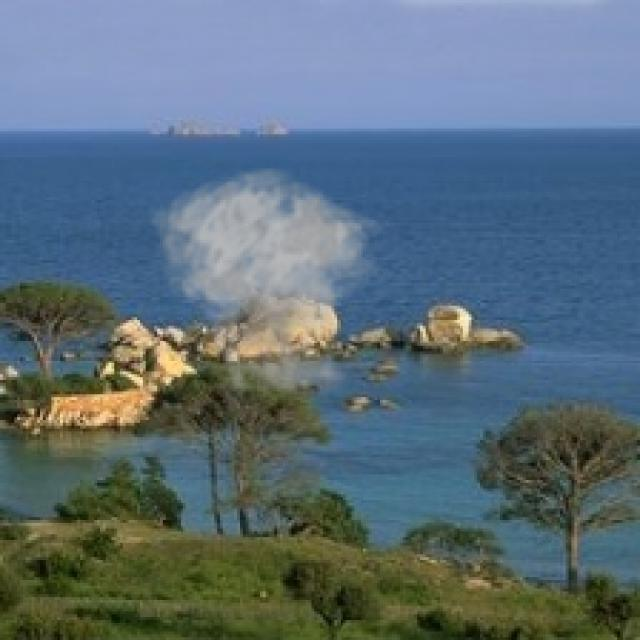Smoke: (148, 166, 388, 411)
